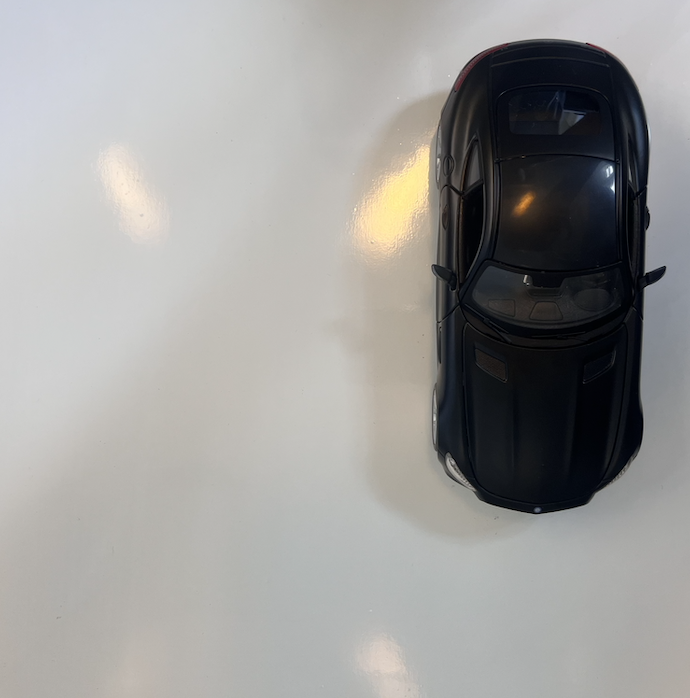car: (428, 38, 668, 515)
